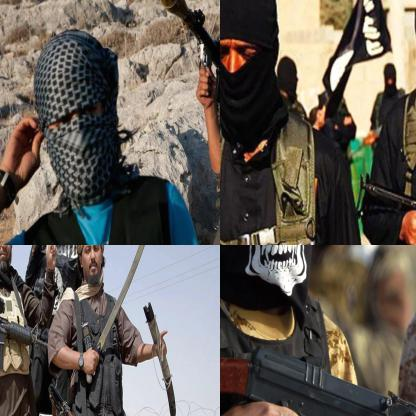knife: (92, 245, 157, 388)
rifle: (220, 344, 415, 415), (146, 0, 219, 105), (0, 294, 47, 375), (47, 383, 99, 415)
